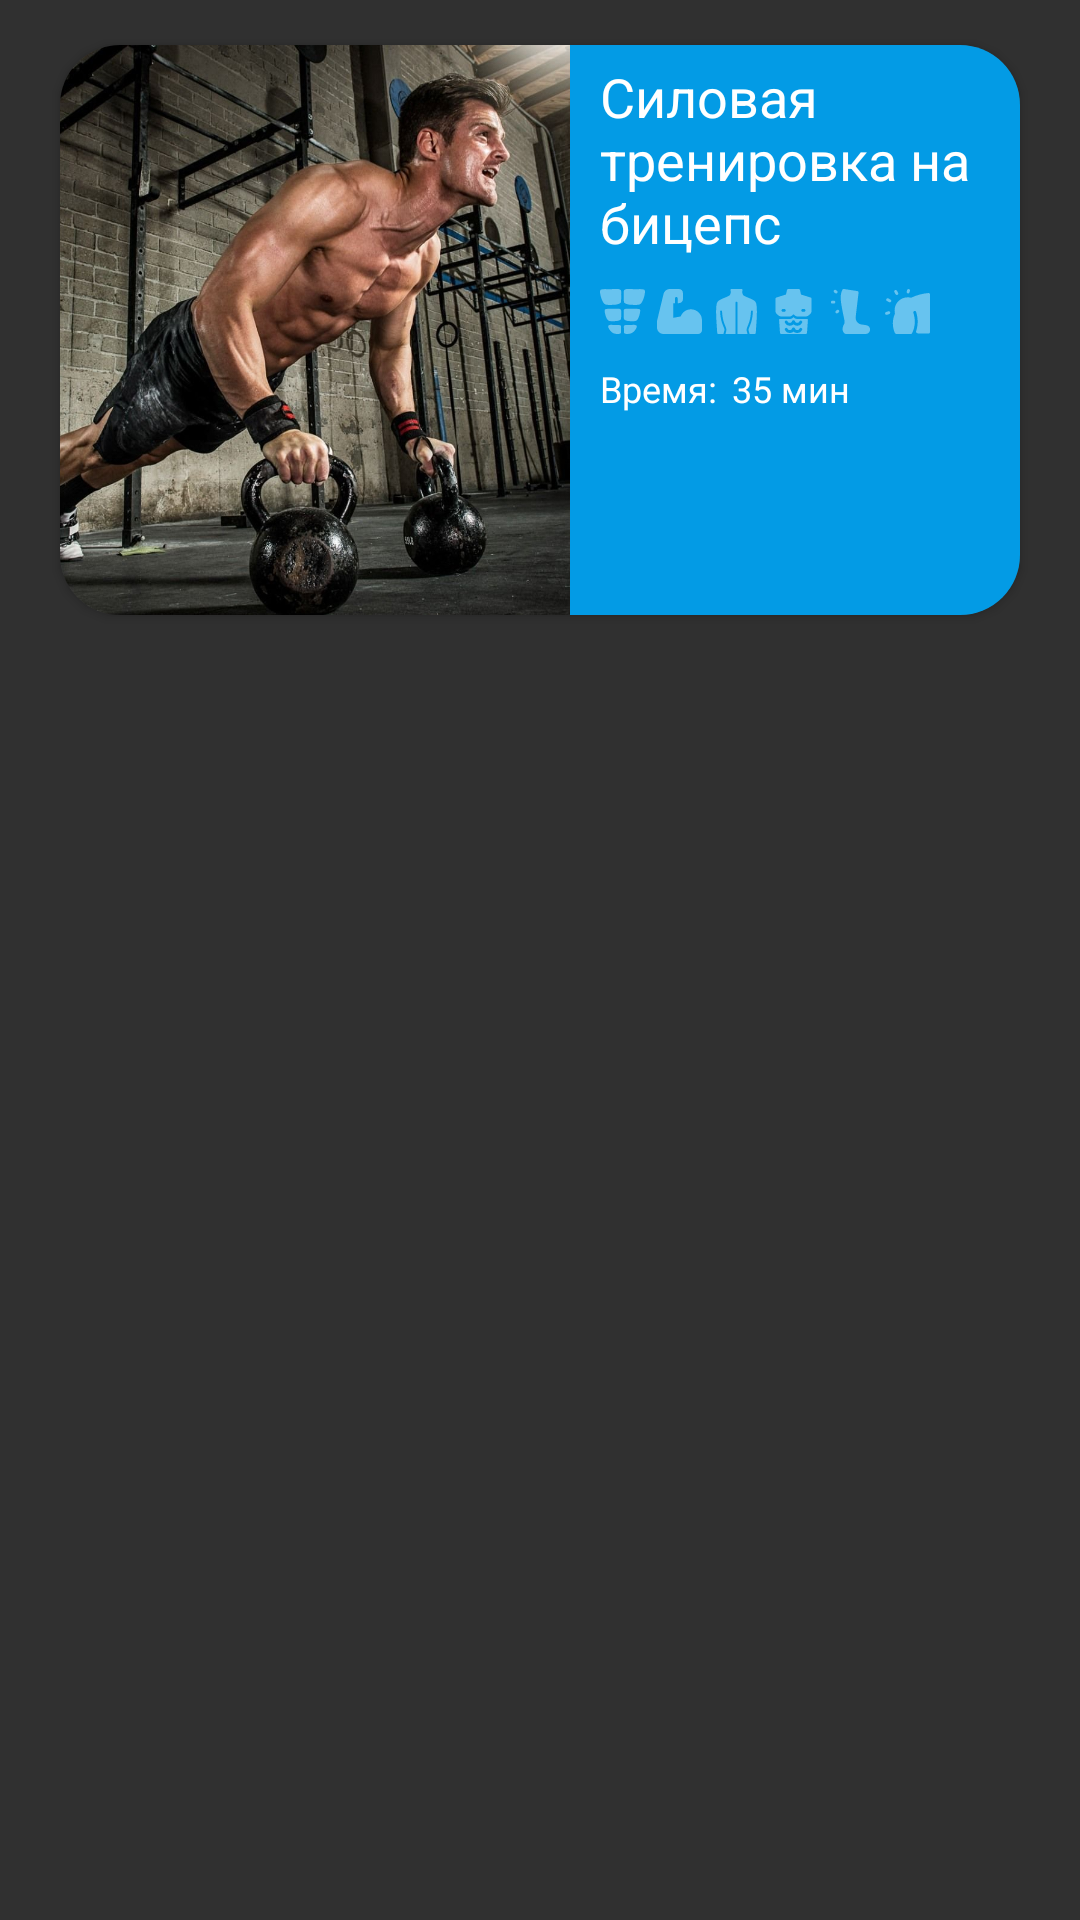

Where to tap for icons on this 1080px×1920px app screen, as (x=x, y=y):
arm: (x=679, y=311)
back: (x=736, y=311)
chest: (x=793, y=311)
leg: (x=850, y=311)
press: (x=622, y=311)
shoulder: (x=907, y=311)
